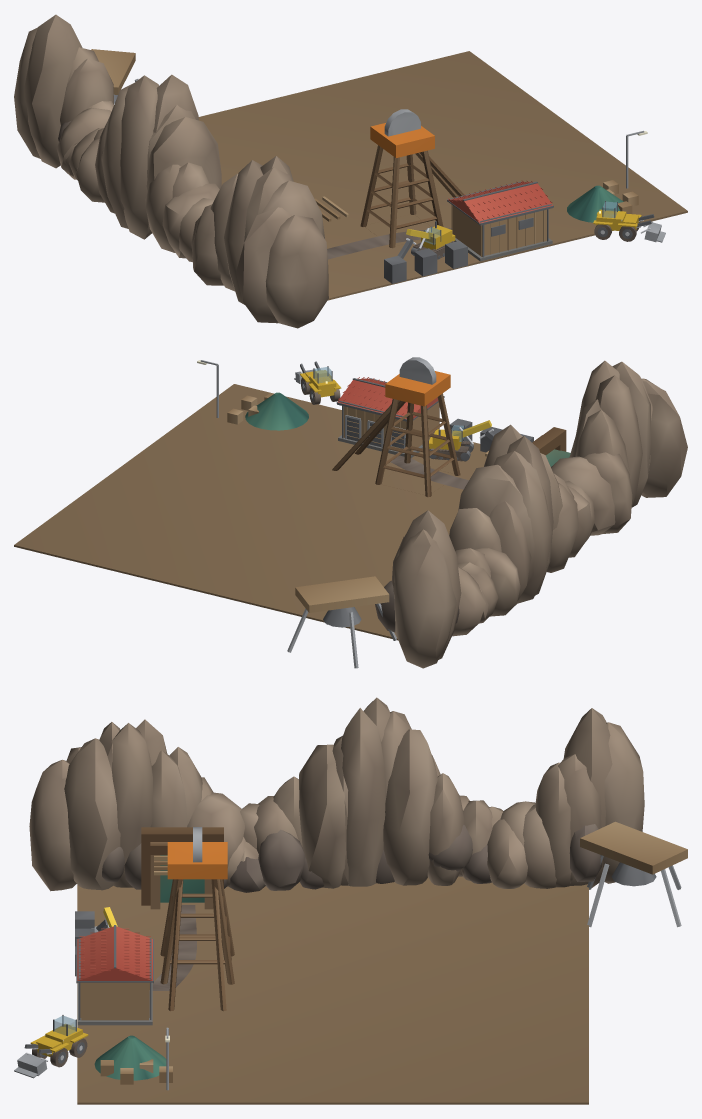
The model's file is Mine_P1.fbx.
3 renders of one model, top to bottom at view 1: azimuth 30°, elevation 25°; view 2: azimuth 150°, elevation 25°; view 3: azimuth 270°, elevation 25°, orthographic. The views are drawn at different scales.
Visible parts, largest first — view 1: Mine.Apron, Mine.Cliff, Mine.Winder, Mine.Headframe, Mine.Clutter, Mine.Loader, Mine.Spoil0, Mine.Excav, Mine.LoadGantry, Mine.Track0; view 2: Mine.Apron, Mine.Cliff, Mine.Headframe, Mine.Winder, Mine.LoadGantry, Mine.Spoil0, Mine.Excav, Mine.Loader, Mine.Clutter, Mine.Adit0, Mine.Track0; view 3: Mine.Apron, Mine.Cliff, Mine.Winder, Mine.Headframe, Mine.LoadGantry, Mine.Adit0, Mine.Loader, Mine.Spoil0, Mine.Clutter, Mine.Track0.
Part boxes in pixels (x1=…): Mine.Apron: x1=198, y1=51, x2=687, y2=300; Mine.Cliff: x1=14, y1=14, x2=328, y2=328; Mine.Winder: x1=447, y1=180, x2=553, y2=261; Mine.Headframe: x1=360, y1=109, x2=463, y2=248; Mine.Clutter: x1=384, y1=180, x2=638, y2=283; Mine.Loader: x1=593, y1=201, x2=665, y2=242; Mine.Spoil0: x1=567, y1=185, x2=623, y2=222; Mine.Excav: x1=397, y1=221, x2=455, y2=259; Mine.LoadGantry: x1=91, y1=49, x2=138, y2=103; Mine.Track0: x1=327, y1=228, x2=451, y2=259; Mine.Apron: x1=14, y1=384, x2=486, y2=640; Mine.Cliff: x1=375, y1=360, x2=687, y2=668; Mine.Headframe: x1=332, y1=357, x2=460, y2=497; Mine.Winder: x1=336, y1=377, x2=444, y2=458; Mine.LoadGantry: x1=287, y1=576, x2=396, y2=668; Mine.Spoil0: x1=245, y1=392, x2=308, y2=430; Mine.Excav: x1=429, y1=420, x2=494, y2=461; Mine.Loader: x1=294, y1=361, x2=341, y2=404; Mine.Clutter: x1=227, y1=393, x2=533, y2=452; Mine.Adit0: x1=485, y1=427, x2=570, y2=466; Mine.Track0: x1=390, y1=455, x2=468, y2=489; Mine.Apron: x1=77, y1=876, x2=588, y2=1104; Mine.Cliff: x1=29, y1=697, x2=644, y2=892; Mine.Winder: x1=76, y1=925, x2=153, y2=1025; Mine.Headframe: x1=160, y1=827, x2=234, y2=1011; Mine.LoadGantry: x1=580, y1=821, x2=687, y2=927; Mine.Adit0: x1=141, y1=827, x2=223, y2=909; Mine.Loader: x1=14, y1=1015, x2=88, y2=1078; Mine.Spoil0: x1=94, y1=1035, x2=166, y2=1080; Mine.Clutter: x1=75, y1=911, x2=172, y2=1084; Mine.Track0: x1=152, y1=905, x2=196, y2=990.
Size of the model in its own units: 8041 by 2841 by 8959.
